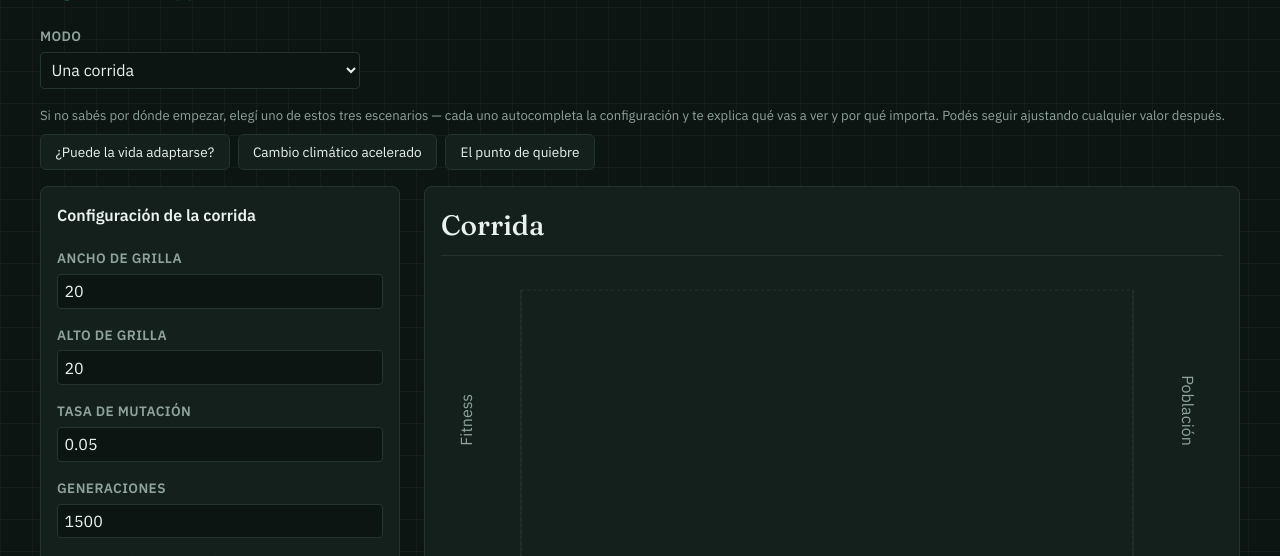
Test: botón de iniciar › se deshabilita al pasar el máximo, con un título que dice cuál es
This screenshot has width=1280, height=556.
Replace the text in the number field labelled "Ancho de grilla" with "40". click: (220, 291)
box: [57,274,383,309]
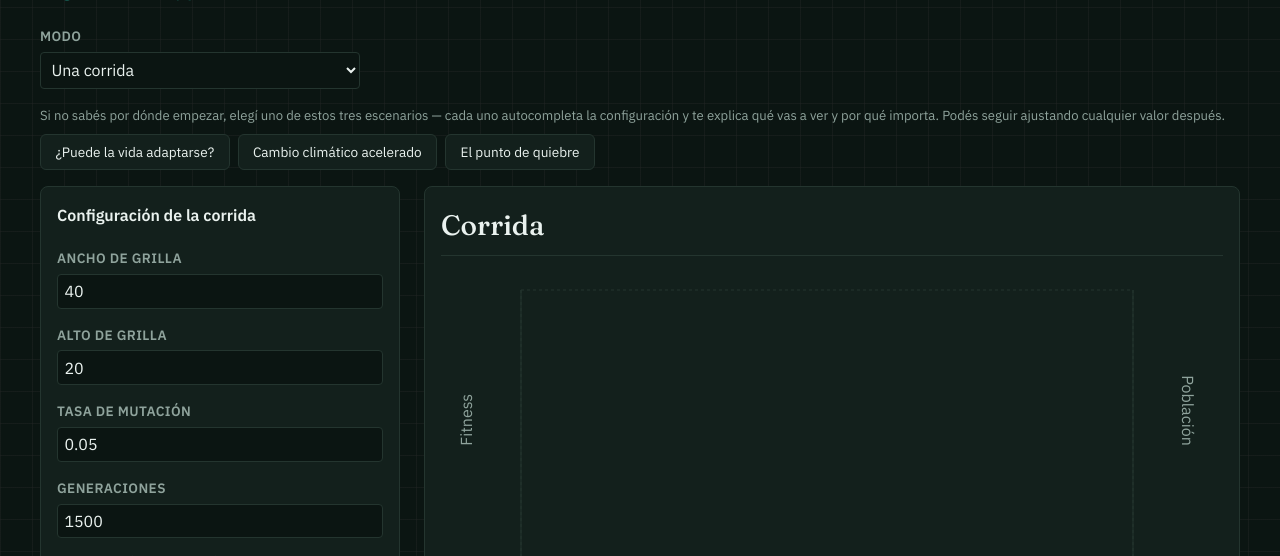
Replace the text in the number field labelled "Alto de grilla" with "40". click: (220, 368)
box: [57,350,383,385]
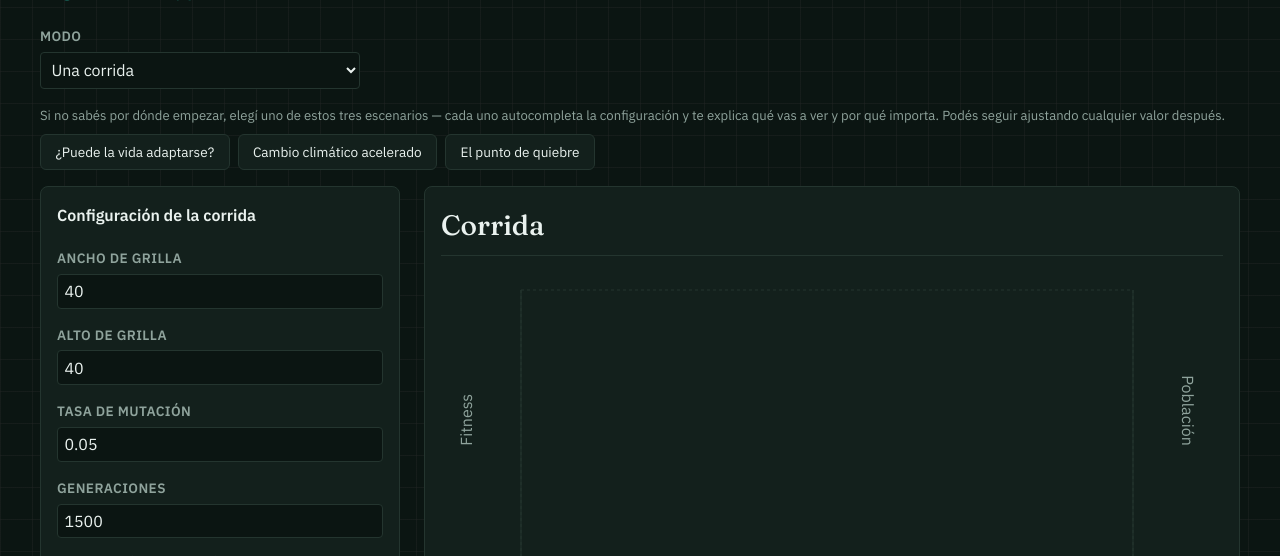
Replace the text in the number field labelled "Generaciones" with "5000". click: (220, 521)
box: [57,504,383,538]
(page scrolled)
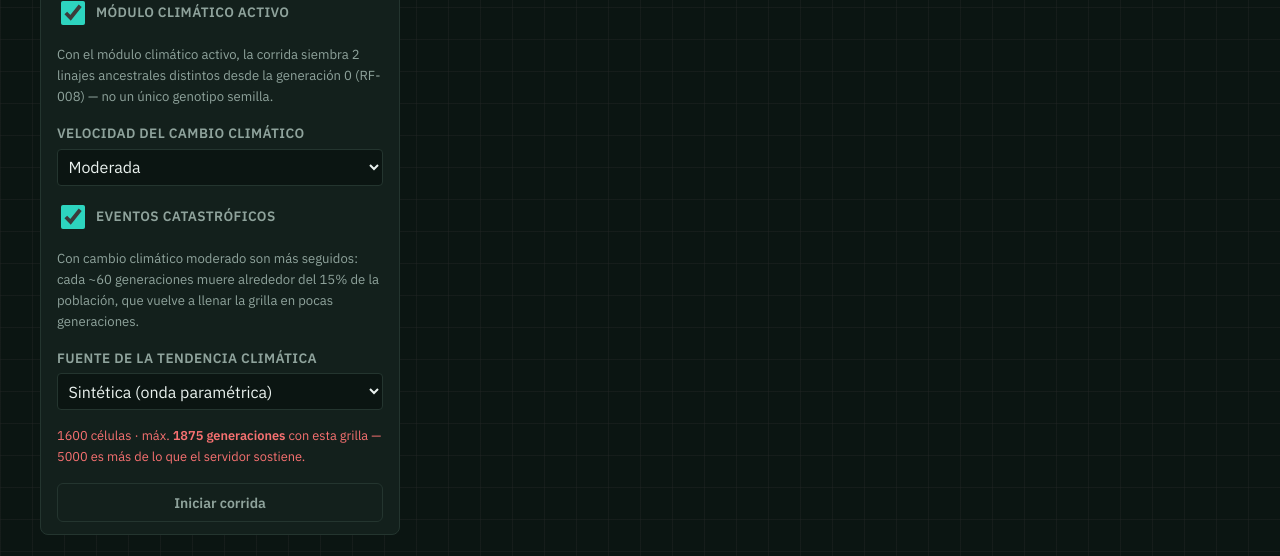
Result: the button "Iniciar corrida" is disabled at [57,483,383,522]
